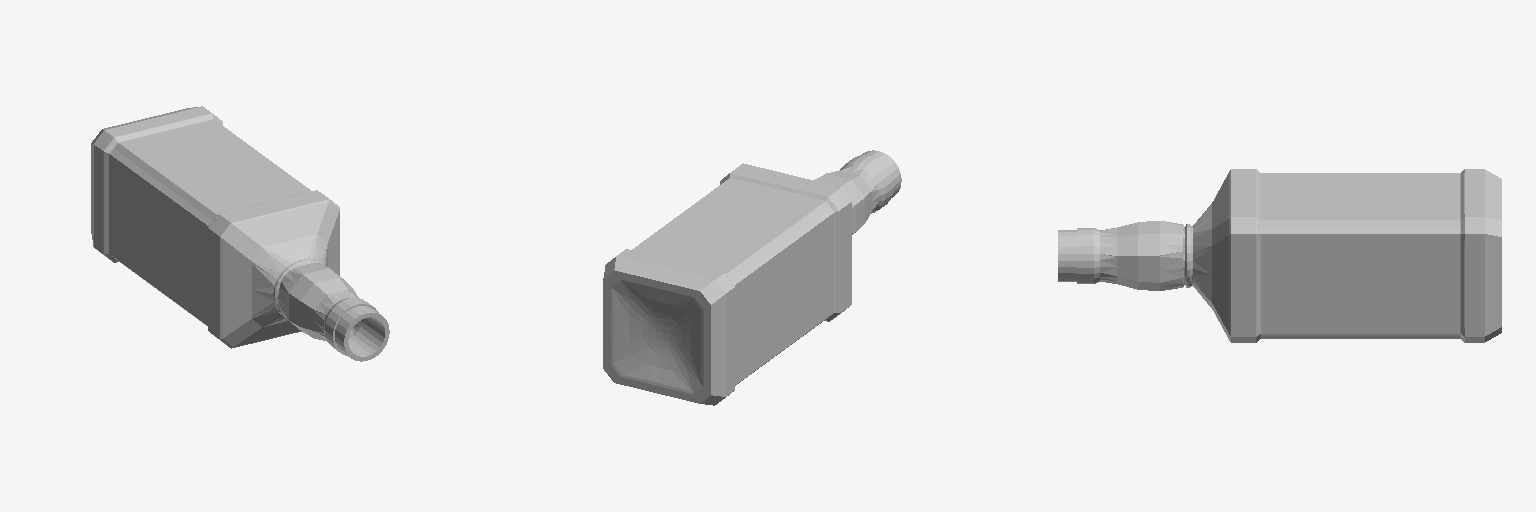
The model's file is bottle.obj.
3 renders of one model, left to right at view 1: azimuth 30°, elevation 25°; view 2: azimuth 150°, elevation 25°; view 3: azimuth 270°, elevation 25°, orthographic.
Bounding box in the file's own units: 0.076 × 0.076 × 0.243.